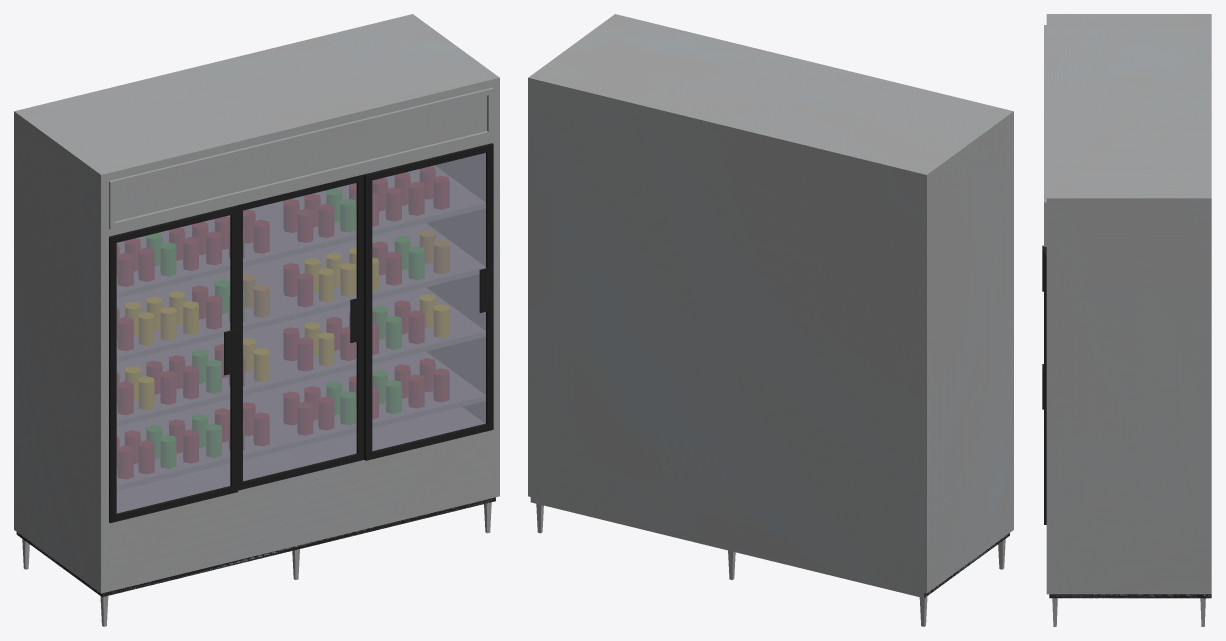
3 views of the same model, side by side, from view 1: azimuth 30°, elevation 25°; view 2: azimuth 150°, elevation 25°; view 3: azimuth 270°, elevation 25° (orthographic). The views are drawn at different scales.
Visible parts, largest first — view 1: Fridge (×4), Glass (×3), Shelf (×4), Display_Door (×6); view 2: Fridge; view 3: Fridge (×3), Display_Door.
Part boxes in pixels (x1,y1,x2,y2): Fridge (×4): (14, 14, 499, 597); Glass (×3): (116, 153, 485, 513); Shelf (×4): (117, 166, 485, 490); Display_Door (×6): (109, 143, 493, 523); Fridge: (528, 14, 1013, 598); Fridge (×3): (1044, 14, 1211, 598); Display_Door: (1044, 247, 1046, 524).
Bounding box in the file's own units: 78 × 30.25 × 85.25.
